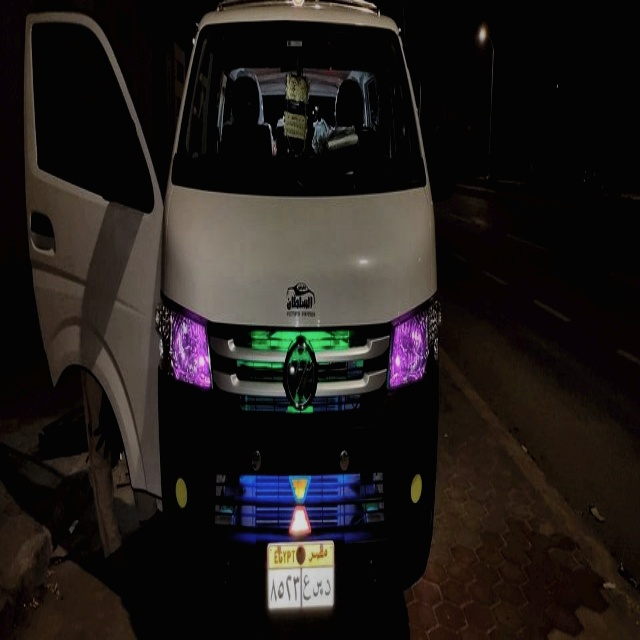License Plate: (265, 541, 337, 617)
